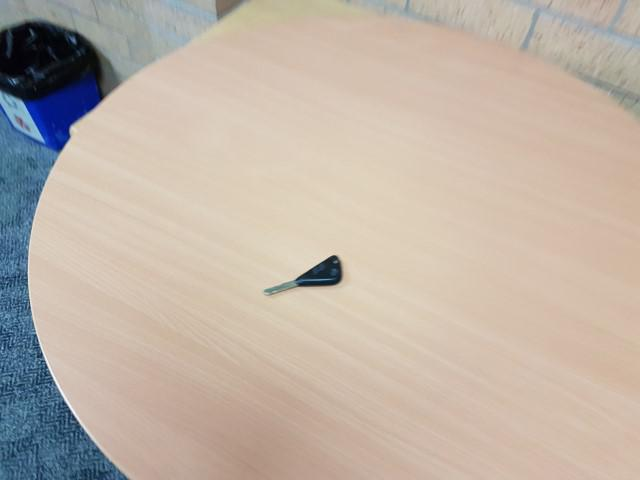key: (262, 254, 343, 295)
